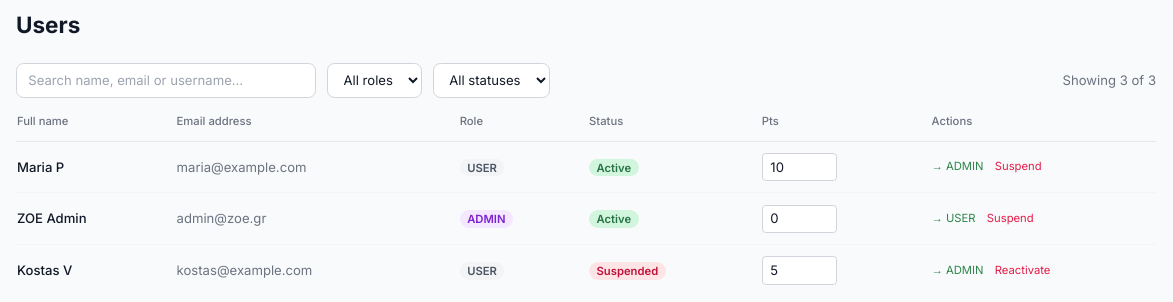
Test: ManageUsersPage search & filters › filters by search query (name/email/username)
Expected: the text "Maria P" is shown, [16,141,176,193]
Type "kostas" into the search field with placeholder "Search name, email or username…" at (166,80), box [16,62,316,98]
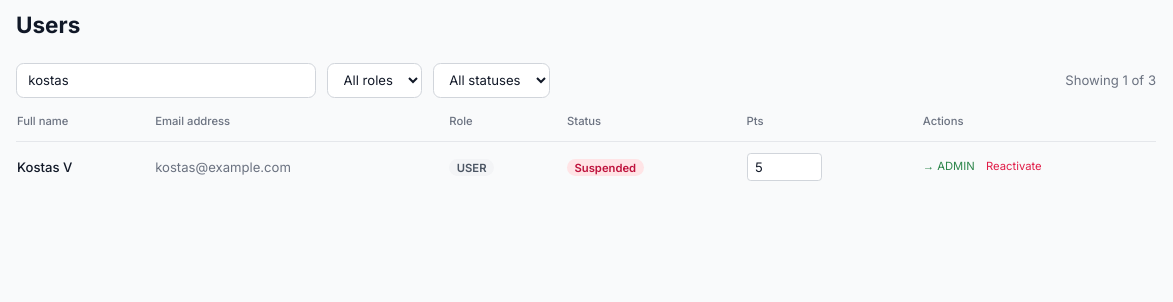
Expected: the text "Kostas V" is shown, [16,141,154,192]
Expected: the text "Maria P" is gone
